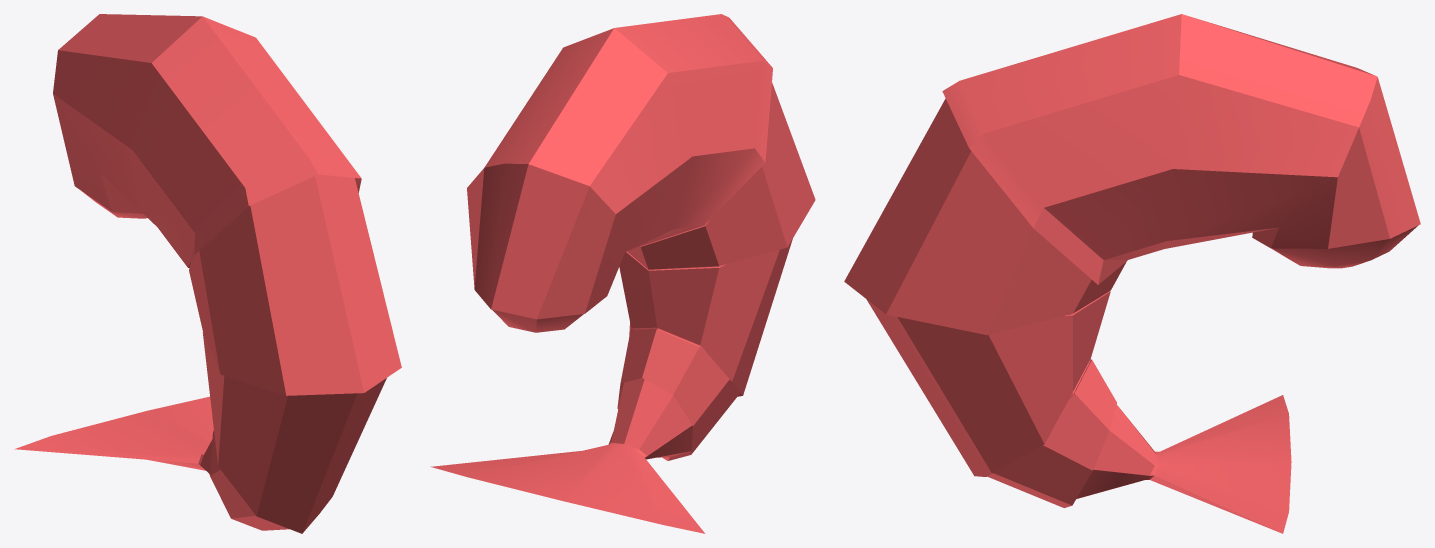
File: shrimp tail.fbx
3 renders of one model, left to right at view 1: azimuth 30°, elevation 25°; view 2: azimuth 150°, elevation 25°; view 3: azimuth 270°, elevation 25°, orthographic. The views are drawn at different scales.
Visible parts, largest first — view 1: Cylinder; view 2: Cylinder; view 3: Cylinder.
Boxes of the visible parts, x1,y1,x2,y2 form: Cylinder: (14,14,401,533); Cylinder: (430,14,815,533); Cylinder: (844,14,1420,533).
Bounding box in the file's own units: 111 × 184 × 195.
